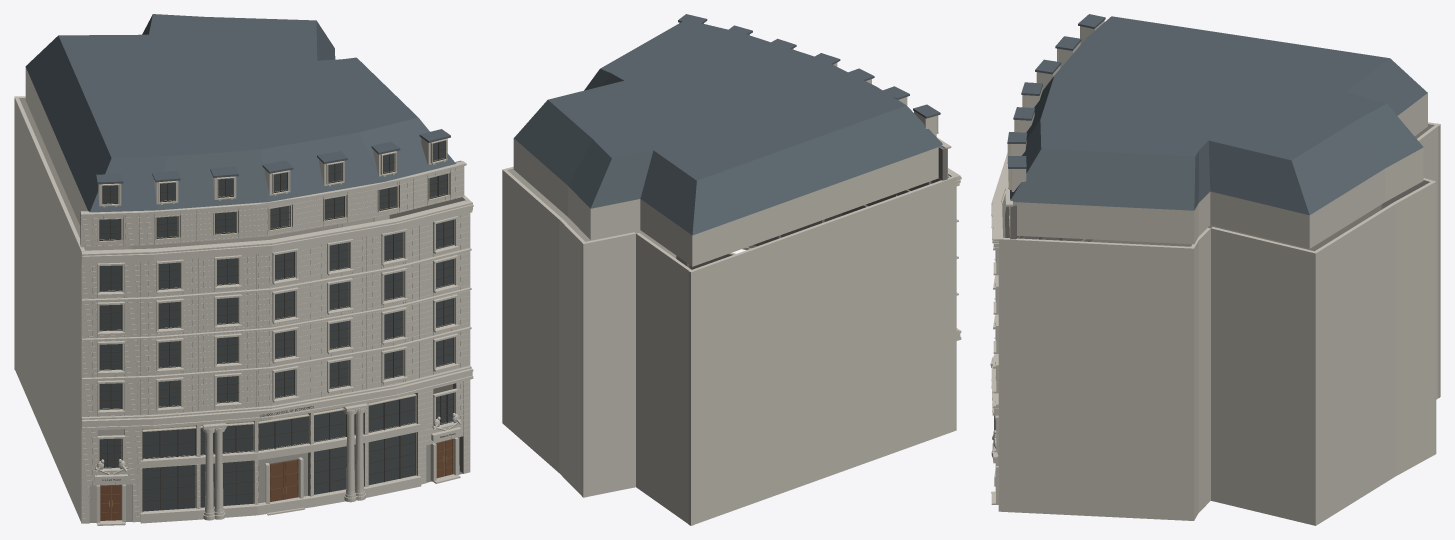
Rendered from clm-exterior-dfc1c27a79c7.glb.
3 views of the same model, side by side, from view 1: azimuth 30°, elevation 25°; view 2: azimuth 150°, elevation 25°; view 3: azimuth 270°, elevation 25° (orthographic). The views are drawn at different scales.
Parts seen in each view (by area): view 1: CLM.001; view 2: CLM.001; view 3: CLM.001.
Boxes of the visible parts, bbox=[...] form: CLM.001: bbox=[14, 14, 473, 525]; CLM.001: bbox=[502, 14, 961, 525]; CLM.001: bbox=[990, 14, 1440, 525].
Bounding box in the file's own units: 33.04 × 29.19 × 34.23.
